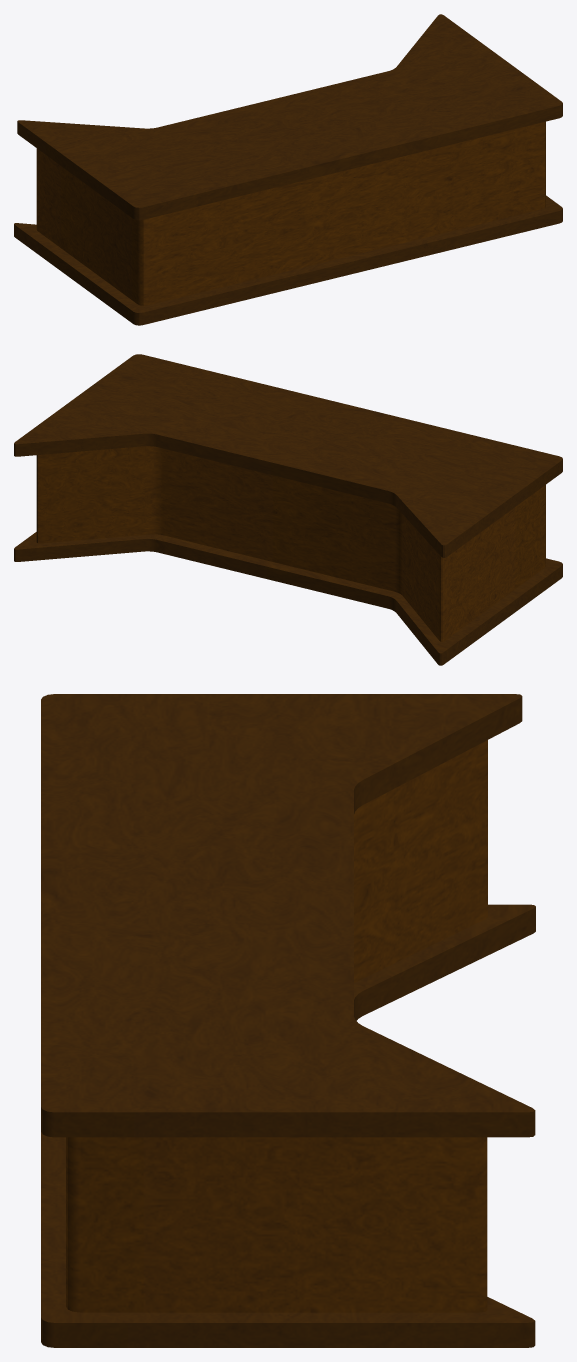
The model's file is Couter.fbx.
3 renders of one model, top to bottom at view 1: azimuth 30°, elevation 25°; view 2: azimuth 150°, elevation 25°; view 3: azimuth 270°, elevation 25°, orthographic. The views are drawn at different scales.
Visible parts, largest first — view 1: Counter; view 2: Counter; view 3: Counter.
Part boxes in pixels (x1=…): Counter: x1=14, y1=14, x2=562, y2=325; Counter: x1=14, y1=354, x2=562, y2=665; Counter: x1=41, y1=694, x2=535, y2=1347.
Bounding box in the file's own units: 400 × 105 × 200.
2 materials, 2 textured.
